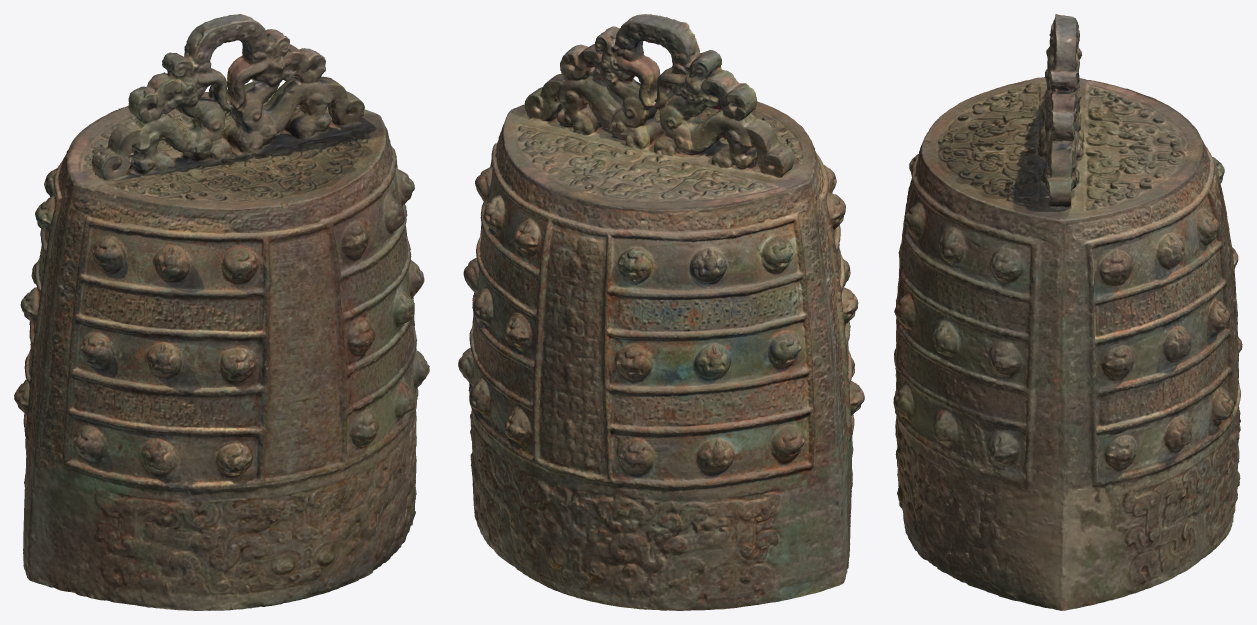
Rendered from bell.glb.
3 views of the same model, side by side, from view 1: azimuth 30°, elevation 25°; view 2: azimuth 150°, elevation 25°; view 3: azimuth 270°, elevation 25° (orthographic). The views are drawn at different scales.
Parts seen in each view (by area): view 1: Object_4, Object_5, Object_6, Object_3, Object_7; view 2: Object_3, Object_6, Object_4, Object_5, Object_7; view 3: Object_3, Object_6, Object_7, Object_4, Object_5.
Part boxes in pixels (bbox=[...]): Object_4: bbox=[35, 21, 414, 574]; Object_5: bbox=[14, 37, 427, 604]; Object_6: bbox=[14, 14, 424, 610]; Object_3: bbox=[23, 41, 416, 610]; Object_7: bbox=[315, 65, 429, 467]; Object_3: bbox=[469, 21, 852, 610]; Object_6: bbox=[463, 14, 864, 609]; Object_4: bbox=[471, 41, 854, 493]; Object_5: bbox=[468, 44, 864, 600]; Object_7: bbox=[458, 53, 692, 410]; Object_3: bbox=[893, 18, 1241, 610]; Object_6: bbox=[894, 14, 1241, 609]; Object_7: bbox=[894, 113, 1189, 492]; Object_4: bbox=[893, 17, 1240, 522]; Object_5: bbox=[893, 35, 1242, 592].
Size of the model in its own units: 20.91 by 27.46 by 17.36.
1 material, 1 textured.
